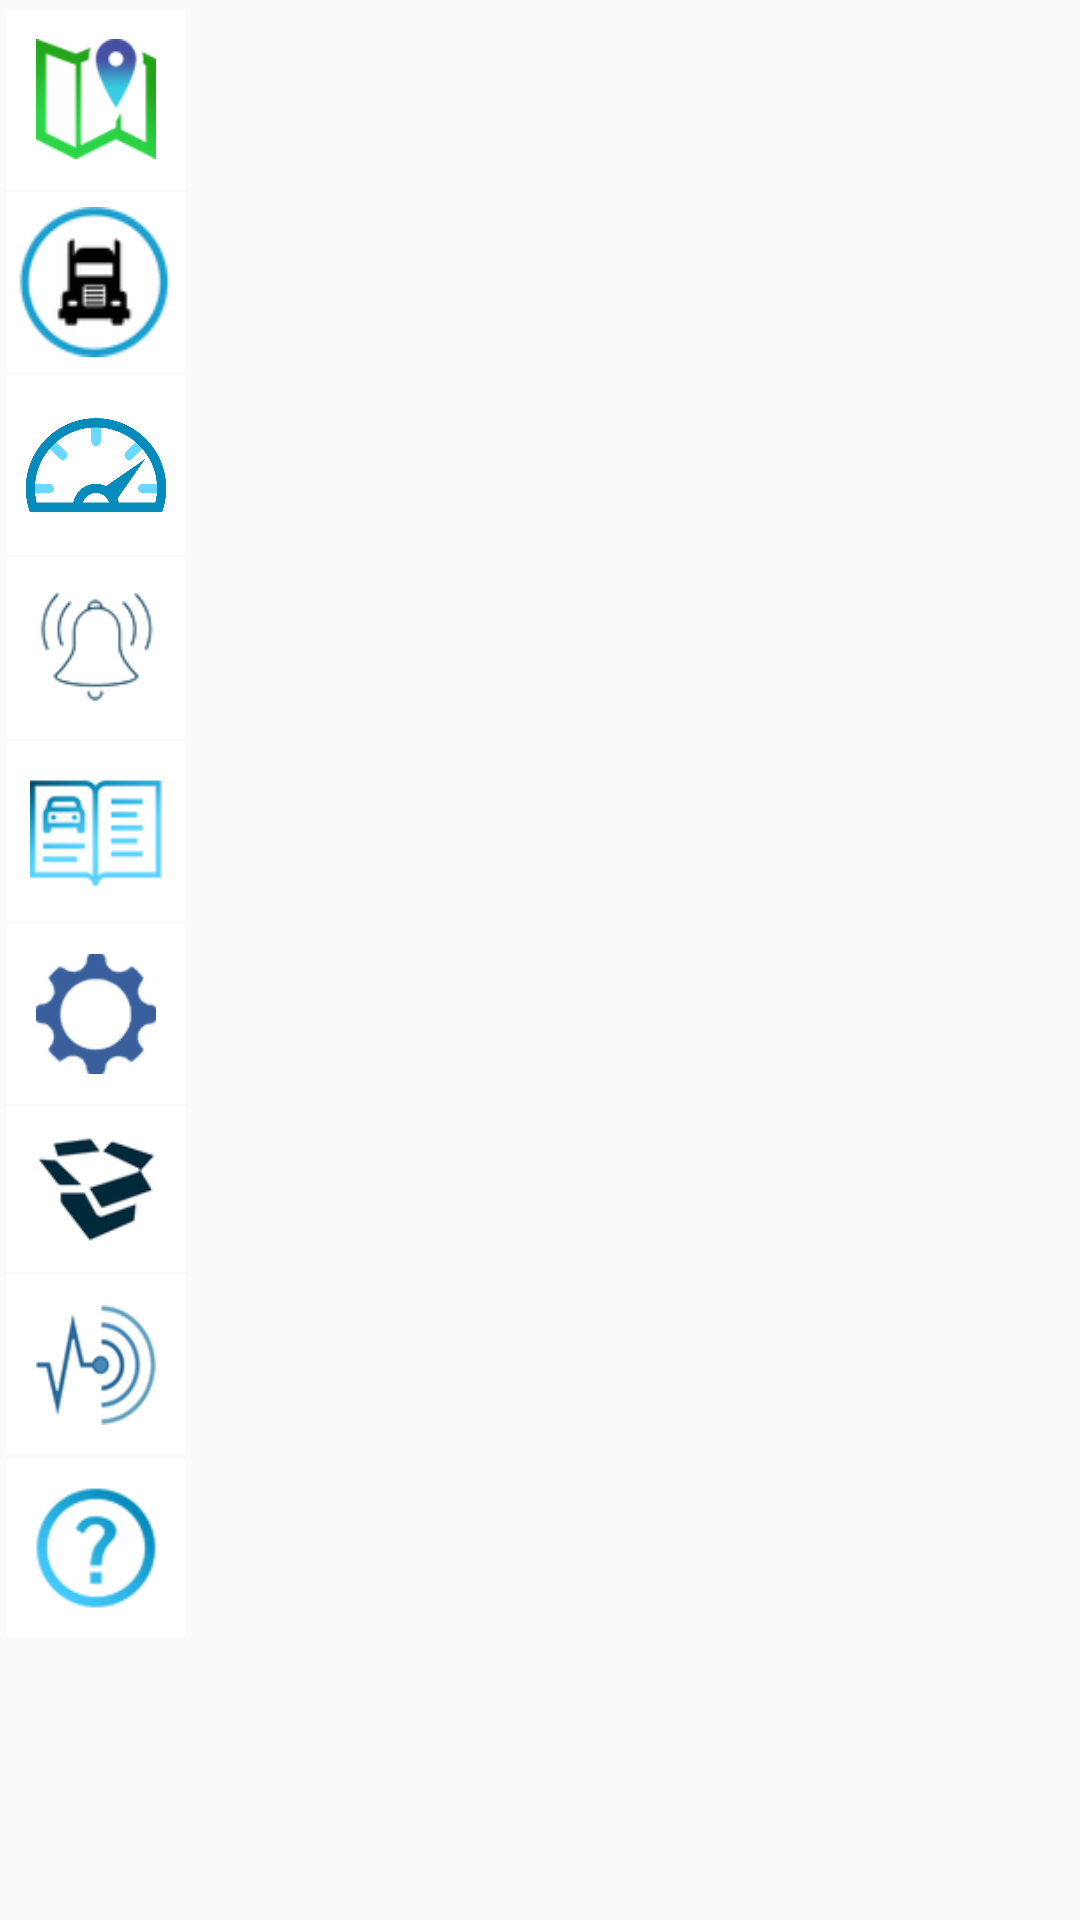

Icons on this 1080x1920 Android screen, each with its box as bbox(x1, y1, x2, y2):
alert: bbox(41, 593, 153, 701)
config: bbox(36, 954, 156, 1074)
help: bbox(36, 1488, 156, 1608)
maps: bbox(36, 39, 156, 159)
packages: bbox(39, 1138, 154, 1241)
sensor: bbox(36, 1305, 156, 1425)
truck: bbox(19, 207, 169, 357)
